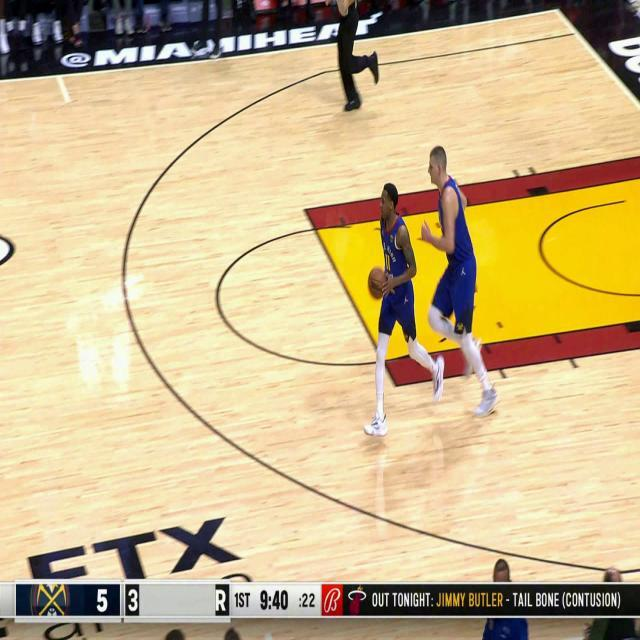rim: (368, 266, 387, 300)
